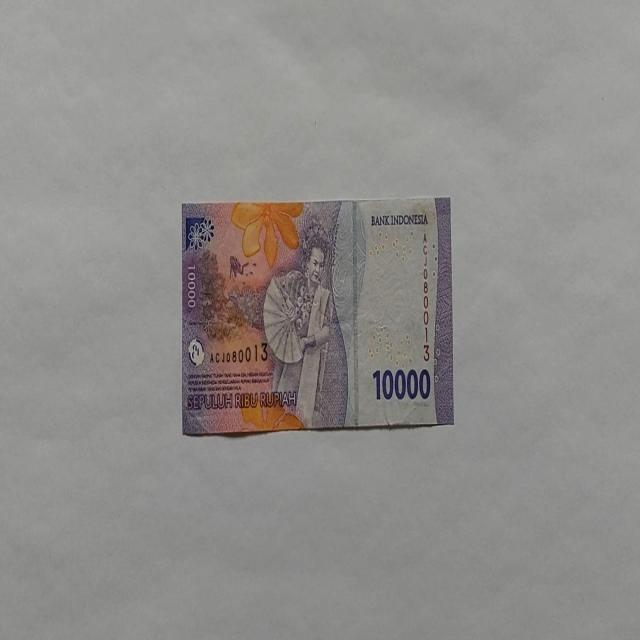Kertas: (180, 196, 454, 437)
